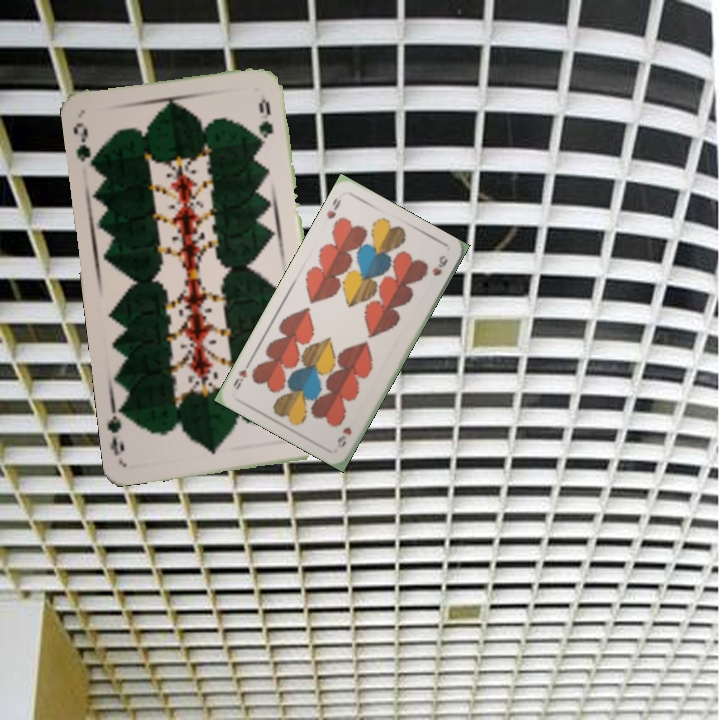G9: (69, 119, 100, 171)
H9: (322, 194, 344, 222), (333, 422, 354, 451)
